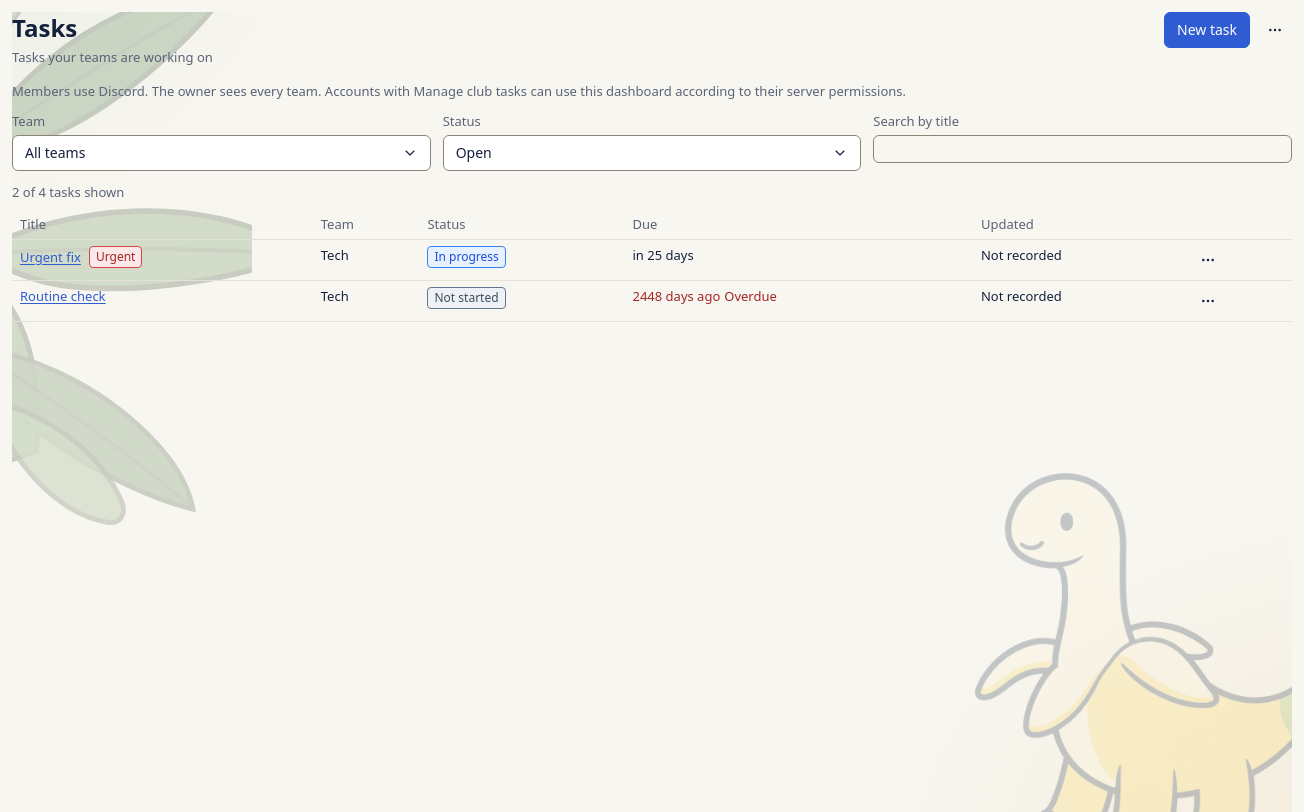
tasks board › filters by team and title, shows the filtered empty state, and Clear filters resets it
Check: the link "Urgent fix" is shown, box [20,248,81,266]
In the search field labelled "Search by title": (1083, 149) [873,135,1292,163], type "routine"
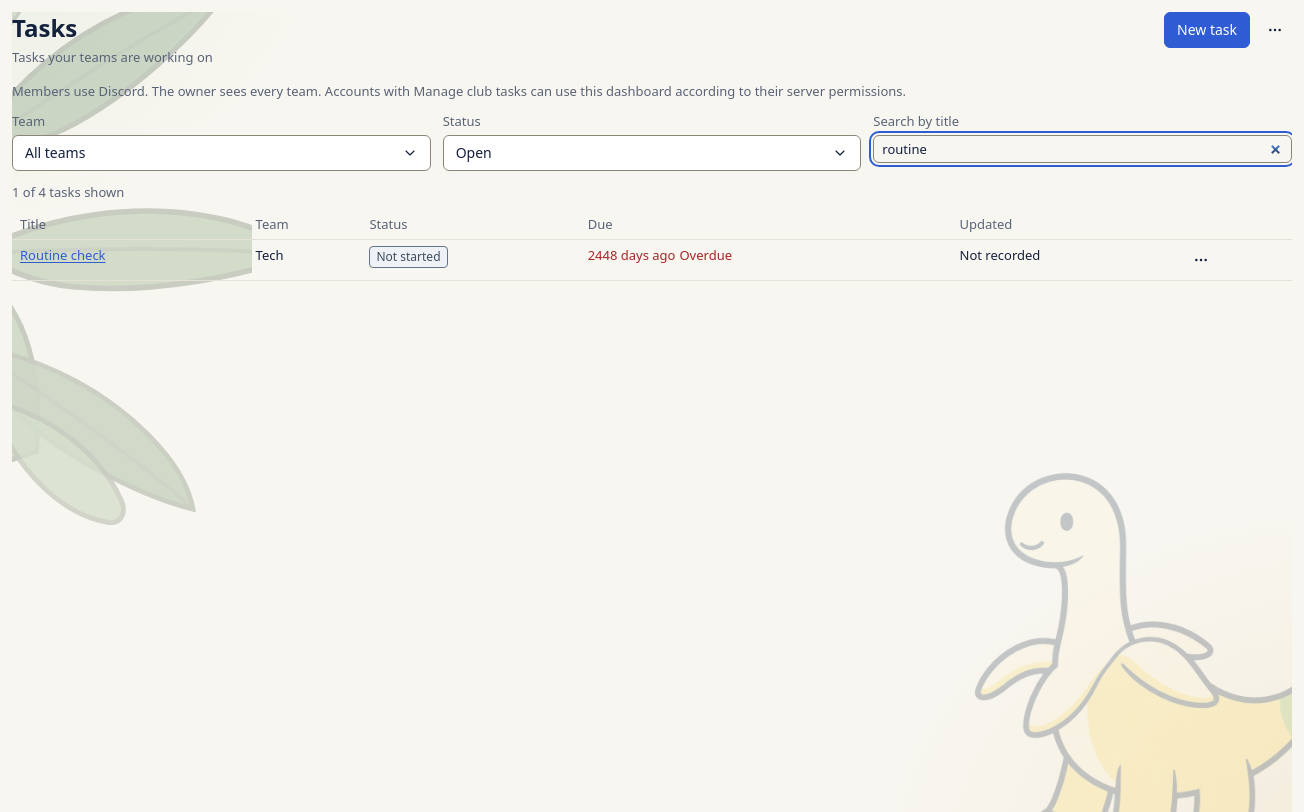
Check: the link "Routine check" is shown, box [20,246,106,265]
Check: the link "Urgent fix" is gone
In the search field labelled "Search by title": (1083, 149) [873,135,1292,163], type " nothing"
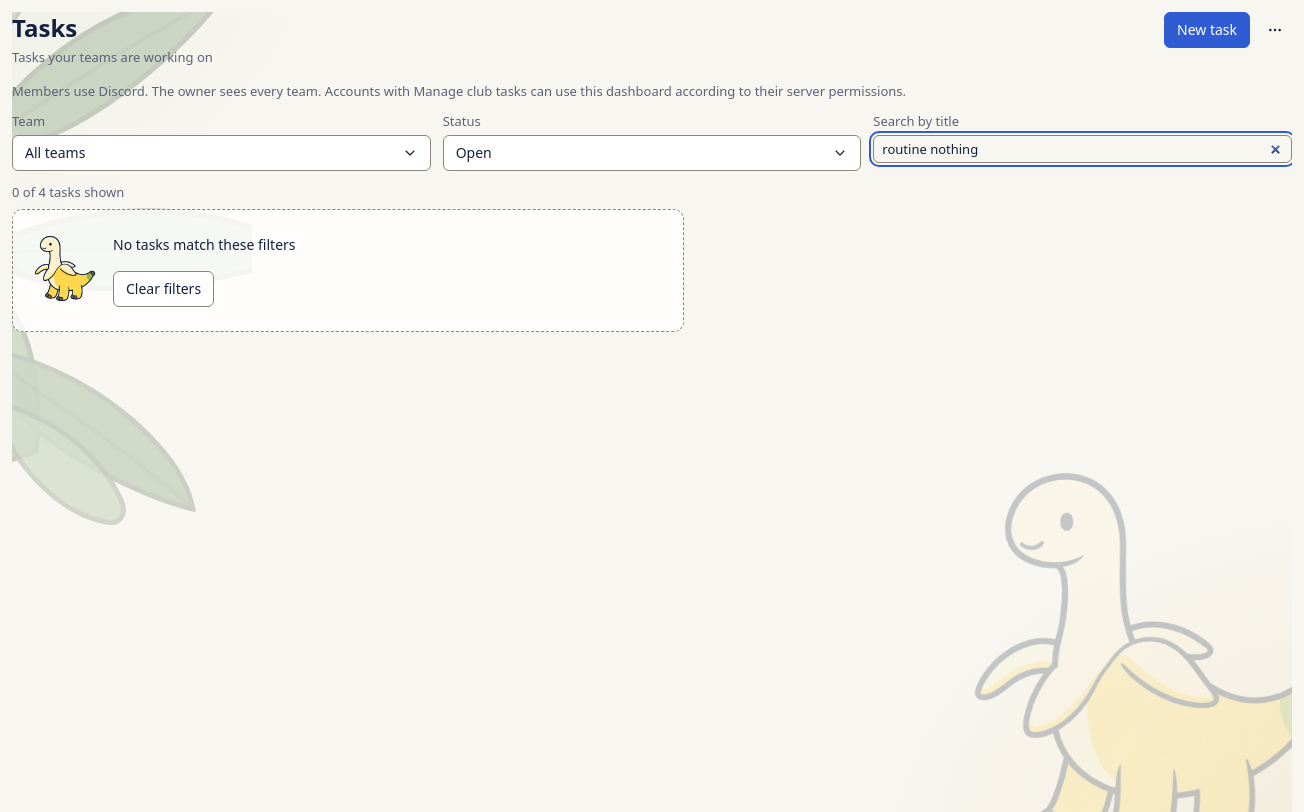
Check: the heading "No tasks match these filters" is shown, box [113,235,296,254]
Click the button "Clear filters": (164, 289) [113,271,214,307]
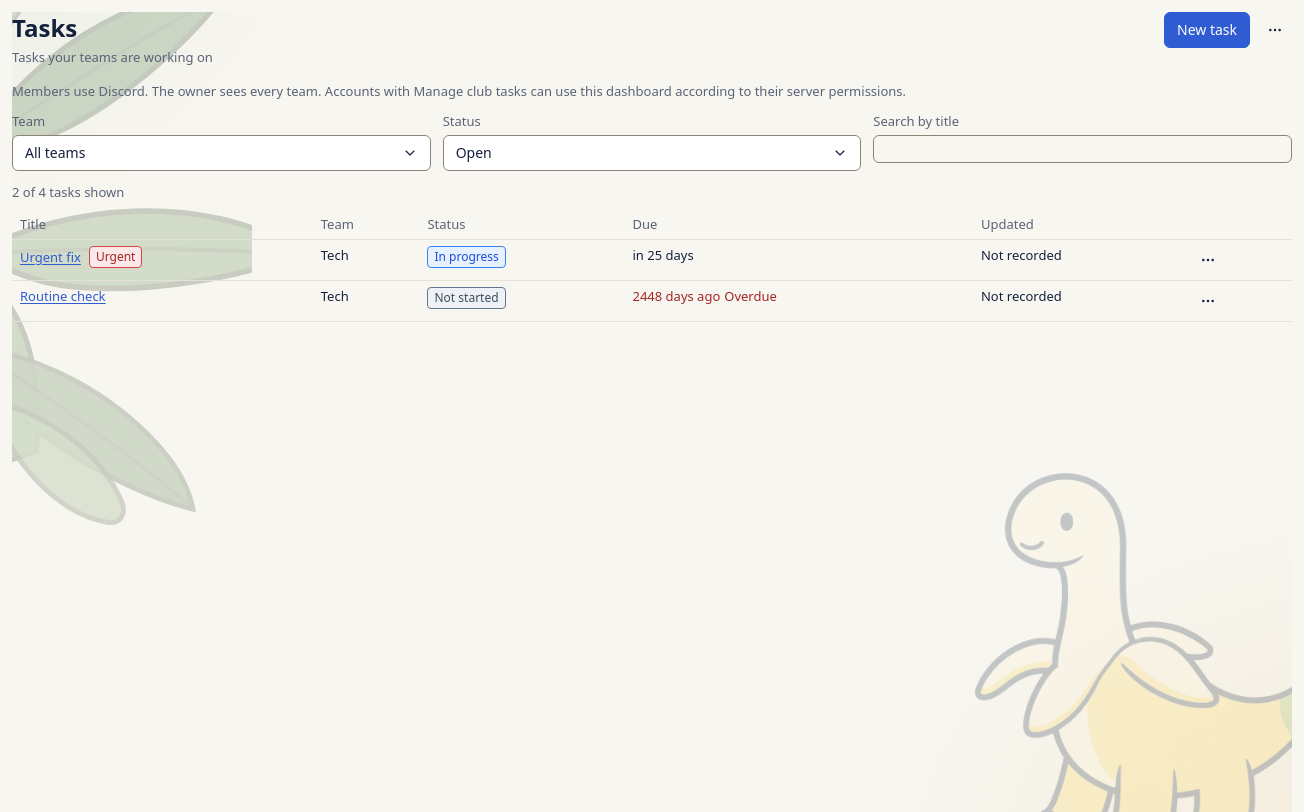
Check: the link "Urgent fix" is shown, box [20,248,81,266]
Check: the link "Routine check" is shown, box [20,287,106,306]
Check: the search field labelled "Search by title" is empty, box [873,135,1292,163]
